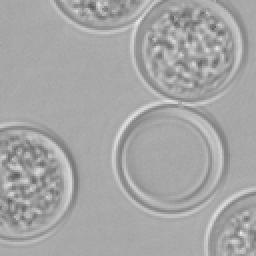picoshell: (112, 102, 224, 216), (130, 0, 246, 102), (0, 122, 76, 244), (204, 186, 254, 254), (50, 0, 154, 32)
